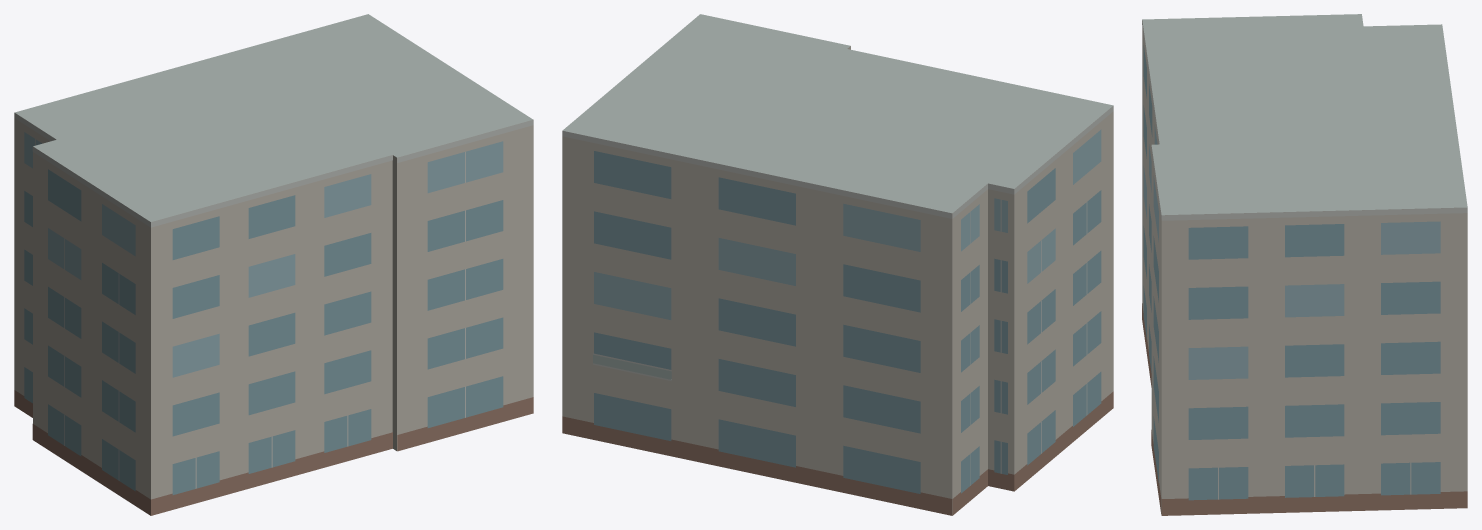
The model's file is survey-upis-32604565.glb.
3 renders of one model, left to right at view 1: azimuth 30°, elevation 25°; view 2: azimuth 150°, elevation 25°; view 3: azimuth 270°, elevation 25°, orthographic. The views are drawn at different scales.
Visible parts, largest first — view 1: survey-upis-32604565.tmp; view 2: survey-upis-32604565.tmp; view 3: survey-upis-32604565.tmp.
Boxes of the visible parts, <box> form: survey-upis-32604565.tmp: <box>14,14,533,515</box>; survey-upis-32604565.tmp: <box>562,14,1113,515</box>; survey-upis-32604565.tmp: <box>1142,14,1467,515</box>.
Bounding box in the file's own units: 18.81 × 13.1 × 12.86.
